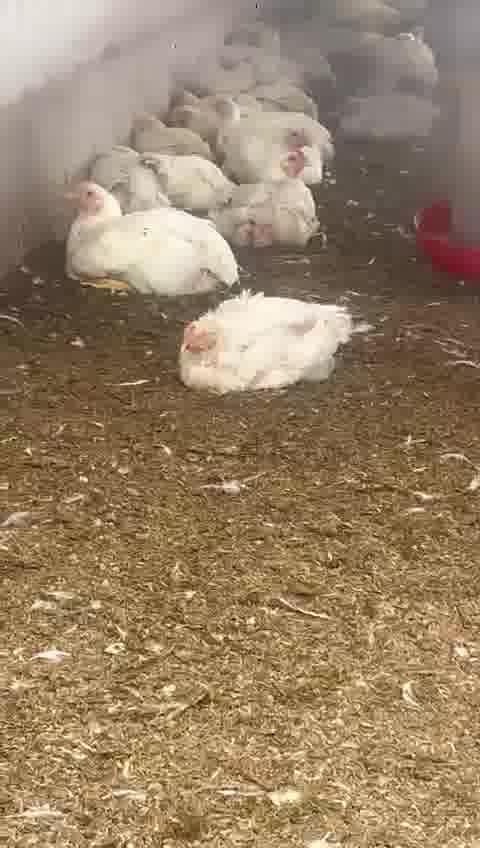AbNormal: (170, 282, 382, 405), (94, 146, 222, 210), (126, 114, 206, 168), (154, 83, 210, 132)
Normal: (59, 179, 239, 295), (217, 148, 320, 242), (206, 99, 339, 161), (333, 90, 439, 149), (222, 122, 324, 166)
